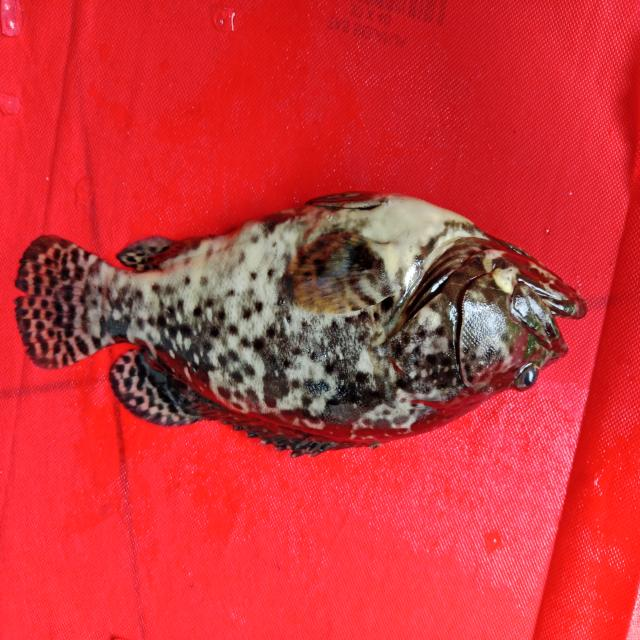ikan: (10, 183, 602, 480)
